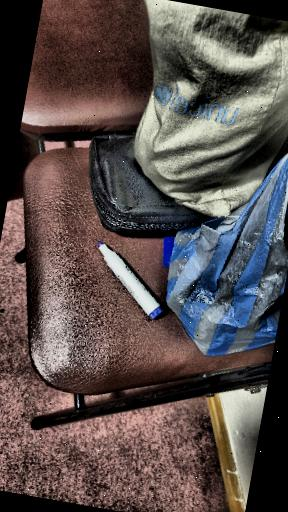marcador azul: (98, 242, 163, 319)
